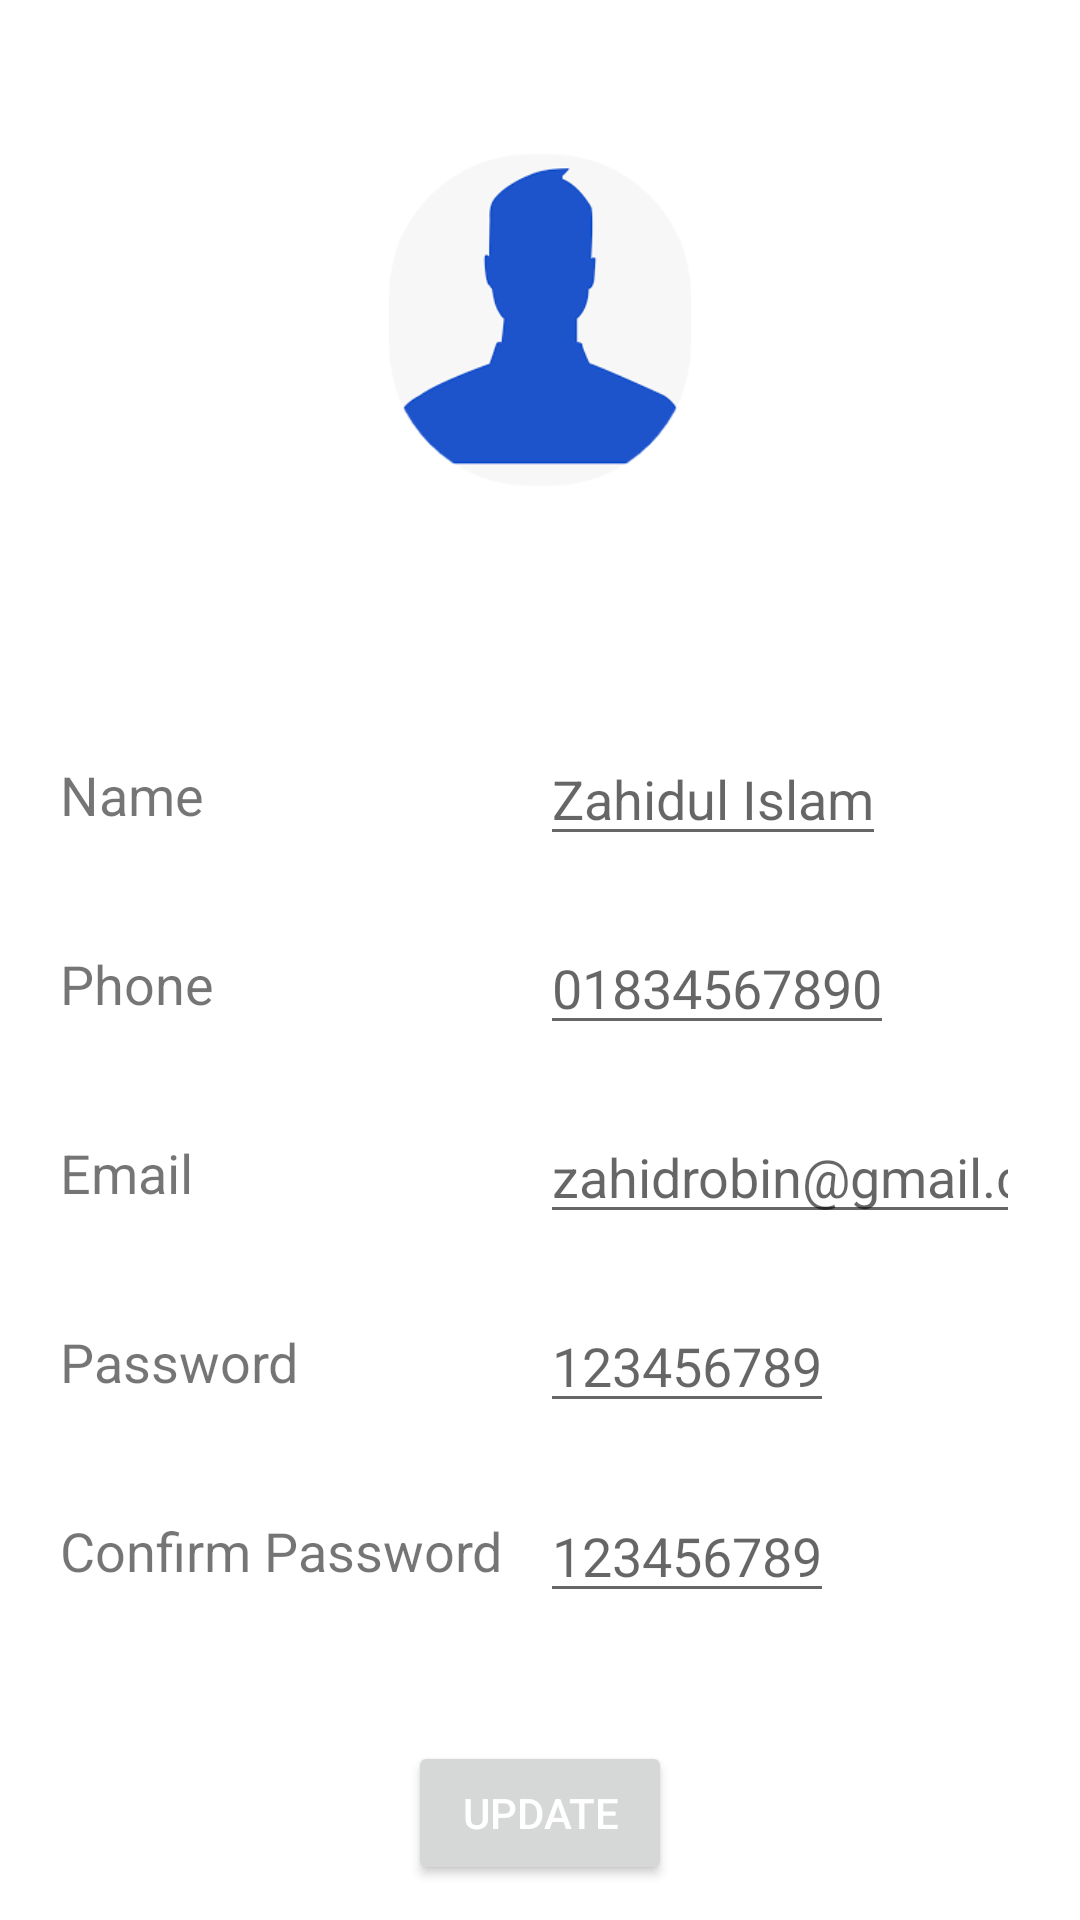

Screen size 1080 x 1920. Icon name, then its box in pixels as (x1=x1, y1=y1, x2=x2, y2=y2):
profile demo: (x1=403, y1=168, x2=677, y2=465)
